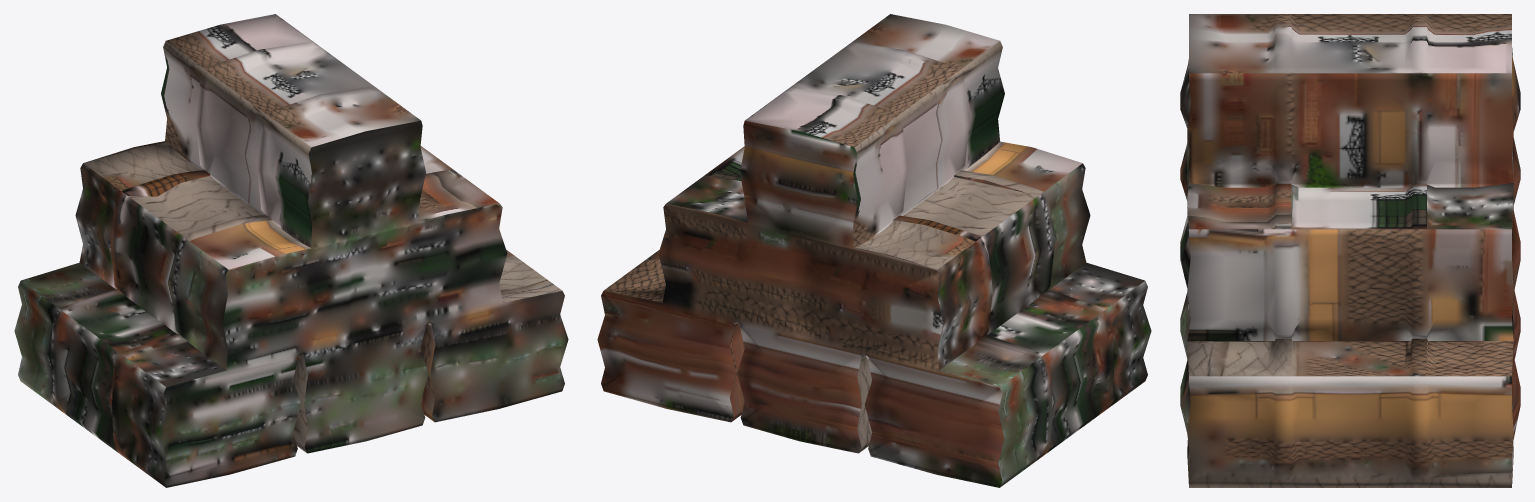
File: heno.fbx
3 views of the same model, side by side, from view 1: azimuth 30°, elevation 25°; view 2: azimuth 150°, elevation 25°; view 3: azimuth 270°, elevation 25° (orthographic). The views are drawn at different scales.
Parts seen in each view (by area): view 1: mesh_rep_0_ori_repair; view 2: mesh_rep_0_ori_repair; view 3: mesh_rep_0_ori_repair.
Part boxes in pixels (x1=…): mesh_rep_0_ori_repair: x1=14, y1=14, x2=568, y2=487; mesh_rep_0_ori_repair: x1=597, y1=14, x2=1151, y2=487; mesh_rep_0_ori_repair: x1=1180, y1=14, x2=1520, y2=487.
Bounding box in the file's own units: 405 × 295 × 260.
